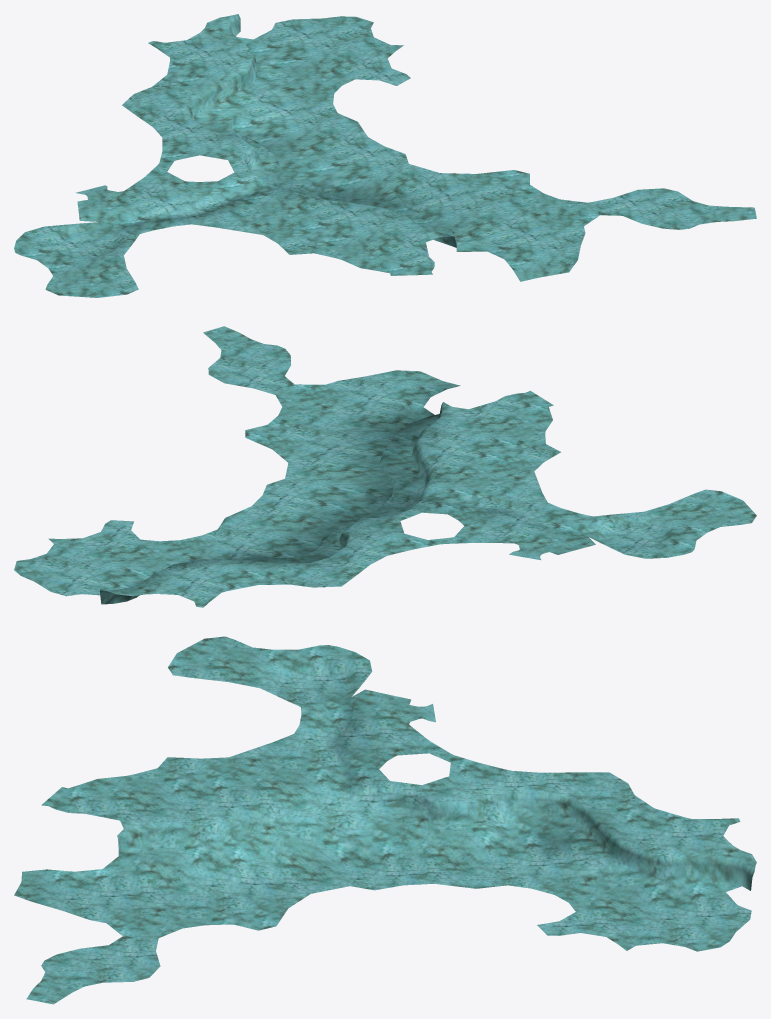
The model's file is EKH_GROTTO_PS_GR_OBJECT18.fbx.
3 renders of one model, top to bottom at view 1: azimuth 30°, elevation 25°; view 2: azimuth 150°, elevation 25°; view 3: azimuth 270°, elevation 25°, orthographic. The views are drawn at different scales.
Visible parts, largest first — view 1: EKH_GROTTO_PS_GR_OBJECT18; view 2: EKH_GROTTO_PS_GR_OBJECT18; view 3: EKH_GROTTO_PS_GR_OBJECT18.
Boxes of the visible parts, box(x1,y1,x2,y2) form: EKH_GROTTO_PS_GR_OBJECT18: box(14, 14, 756, 297); EKH_GROTTO_PS_GR_OBJECT18: box(14, 326, 756, 607); EKH_GROTTO_PS_GR_OBJECT18: box(14, 636, 756, 1004).
Size of the model in its own units: 398975 by 12245 by 358755.
1 material, 1 textured.
